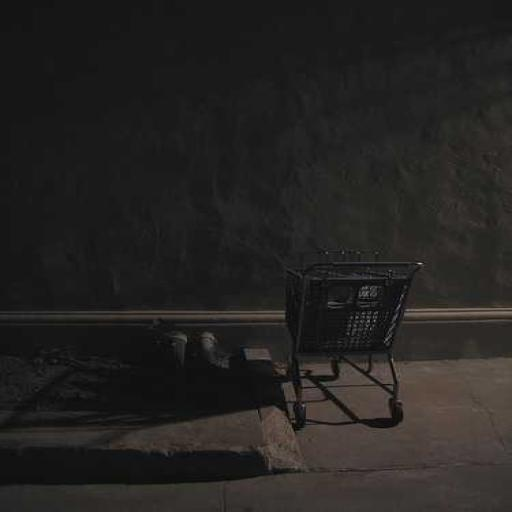shopping_cart: (284, 256, 423, 424)
